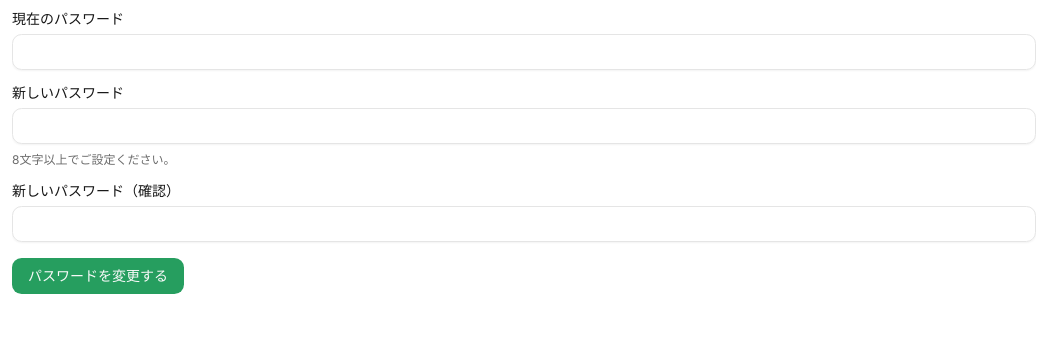
Test case: PasswordChangeForm › shows a mismatch error on the newPasswordConfirmation field (DoD)
In the password field labelled "現在のパスワード": (524, 52) x1=12 y1=34 x2=1036 y2=70, type "current123"
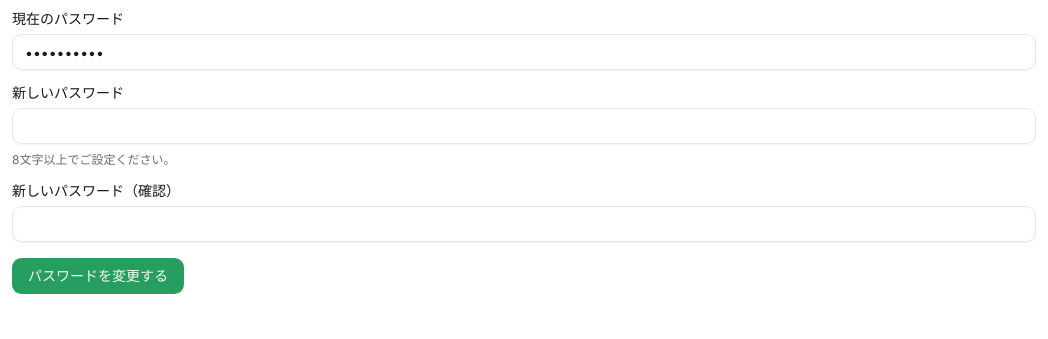
In the password field labelled "新しいパスワード": (524, 126) x1=12 y1=108 x2=1036 y2=144, type "newpass123"
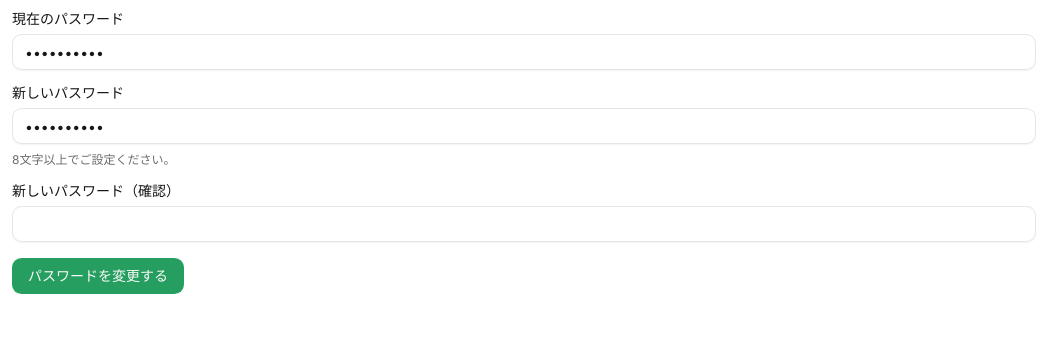
In the password field labelled "新しいパスワード（確認）": (524, 224) x1=12 y1=206 x2=1036 y2=242, type "differentPass1"
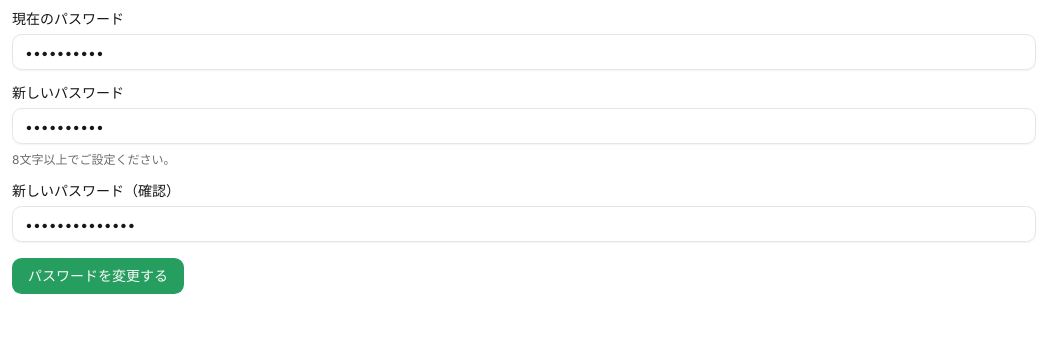
Click the button "パスワードを変更する": (98, 276) x1=12 y1=258 x2=184 y2=294
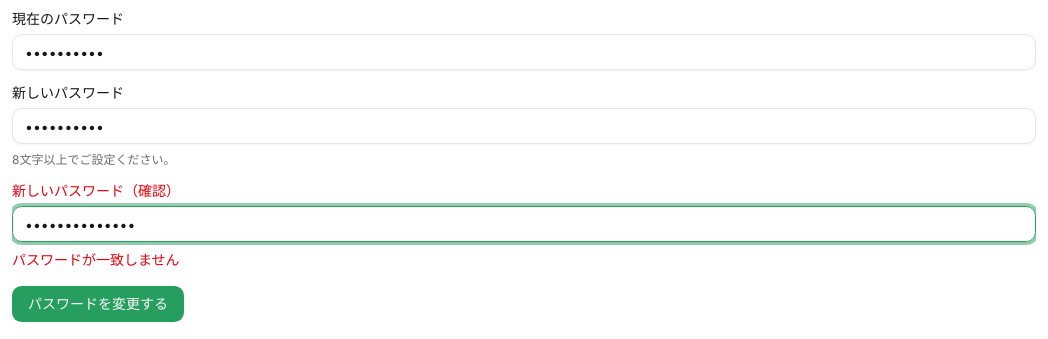
Result: the text "パスワードが一致しません" is shown at x1=12 y1=251 x2=180 y2=268
